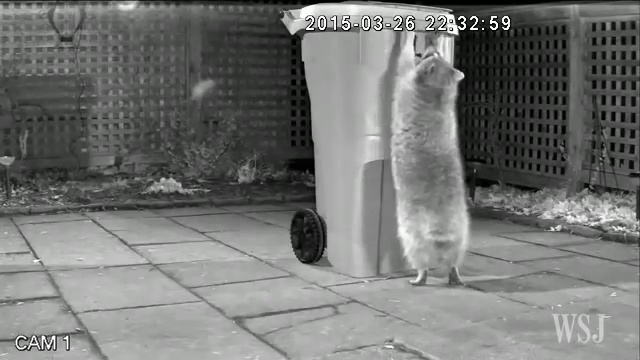raccoon: (393, 33, 480, 290)
